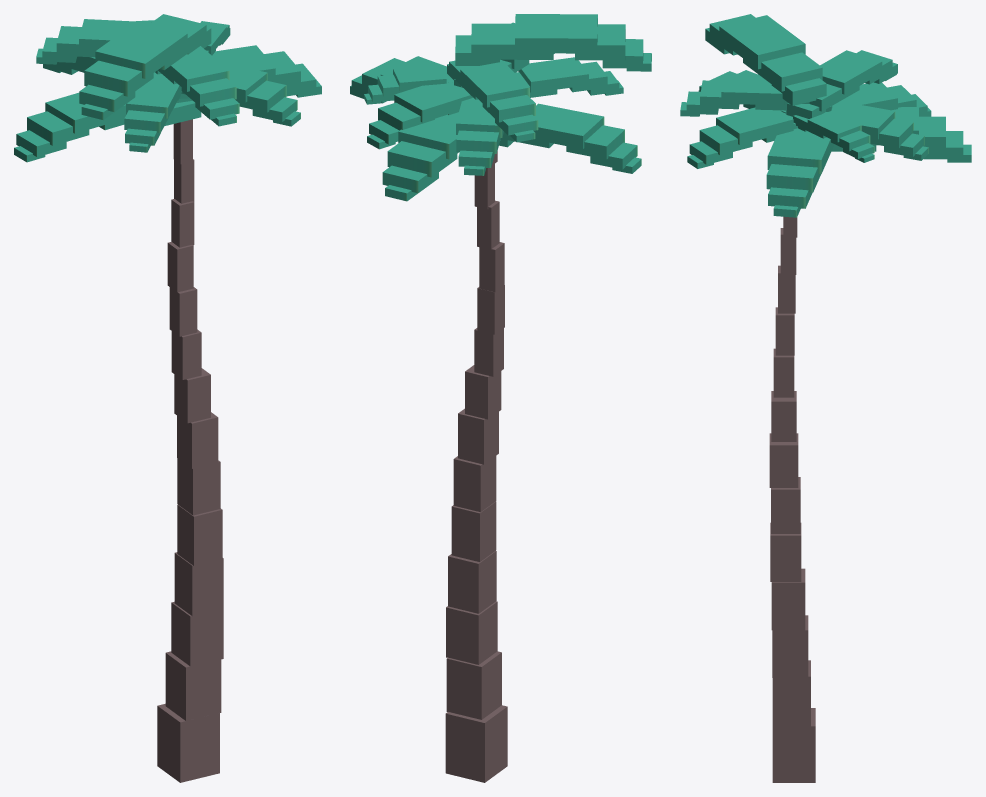
The model's file is PalmTree4.fbx.
3 views of the same model, side by side, from view 1: azimuth 30°, elevation 25°; view 2: azimuth 150°, elevation 25°; view 3: azimuth 270°, elevation 25° (orthographic). The views are drawn at different scales.
Parts seen in each view (by area): view 1: pCube9417, pCube9386, pCube9412, pCube9413, pCube9387, pCube9411, pCube9388, pCube9409, pCube9410, pCube9393, pCube9414, pCube9389 (+12 smaller); view 2: pCube9417, pCube9412, pCube9406, pCube9414, pCube9386, pCube9408, pCube9387, pCube9411, pCube9407, pCube9388, pCube9393, pCube9389 (+10 smaller); view 3: pCube9417, pCube9410, pCube9409, pCube9414, pCube9413, pCube9408, pCube9386, pCube9406, pCube9416, pCube9387, pCube9388, pCube9393 (+9 smaller).
Boxes of the visible parts, <box> form: pCube9417: <box>79,14,211,120</box>; pCube9386: <box>157,703,219,782</box>; pCube9412: <box>14,92,125,162</box>; pCube9413: <box>155,46,239,126</box>; pCube9387: <box>165,651,221,720</box>; pCube9411: <box>124,72,181,152</box>; pCube9388: <box>171,601,223,666</box>; pCube9409: <box>181,62,300,126</box>; pCube9410: <box>176,45,321,102</box>; pCube9393: <box>174,552,223,616</box>; pCube9414: <box>36,19,151,64</box>; pCube9389: <box>177,504,222,565</box>; pCube9417: <box>455,14,651,71</box>; pCube9412: <box>499,103,641,173</box>; pCube9406: <box>382,112,458,201</box>; pCube9414: <box>447,60,538,142</box>; pCube9386: <box>445,705,507,782</box>; pCube9408: <box>367,82,472,149</box>; pCube9387: <box>446,651,501,719</box>; pCube9411: <box>515,57,623,97</box>; pCube9407: <box>456,97,503,175</box>; pCube9388: <box>446,601,497,664</box>; pCube9393: <box>448,551,496,613</box>; pCube9389: <box>451,501,496,561</box>; pCube9417: <box>705,14,826,105</box>; pCube9410: <box>766,128,834,217</box>; pCube9409: <box>687,107,797,168</box>; pCube9414: <box>786,50,897,118</box>; pCube9413: <box>680,73,831,116</box>; pCube9408: <box>824,101,928,160</box>; pCube9386: <box>772,708,815,782</box>; pCube9406: <box>831,107,971,162</box>; pCube9416: <box>791,111,874,162</box>; pCube9387: <box>772,660,810,726</box>; pCube9388: <box>772,615,808,677</box>; pCube9393: <box>771,568,805,630</box>.
Bounding box in the file's own units: 4.02 × 9.92 × 3.69.
